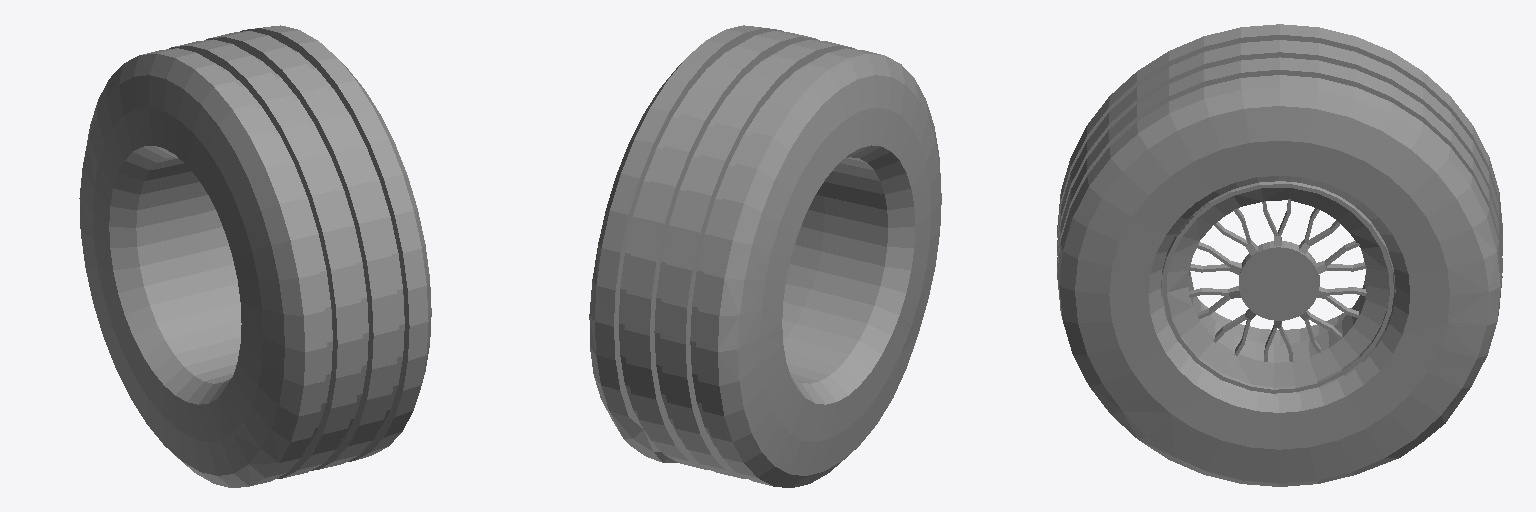
The model's file is wheel_metal_front_dodge.obj.
3 views of the same model, side by side, from view 1: azimuth 30°, elevation 25°; view 2: azimuth 150°, elevation 25°; view 3: azimuth 270°, elevation 25° (orthographic).
Visible parts, largest first — view 1: Ferrari_wheel_front_R.001; view 2: Ferrari_wheel_front_R.001; view 3: Ferrari_wheel_front_R.001, Ferrari_wheel_front_R_metal.001.
Boxes of the visible parts, box(x1,y1,x2,y2) form: Ferrari_wheel_front_R.001: box(79, 25, 431, 487); Ferrari_wheel_front_R.001: box(589, 25, 941, 487); Ferrari_wheel_front_R.001: box(1057, 24, 1502, 486); Ferrari_wheel_front_R_metal.001: box(1161, 181, 1395, 395).
Size of the model in its own units: 0.2441 by 0.5819 by 0.5823.